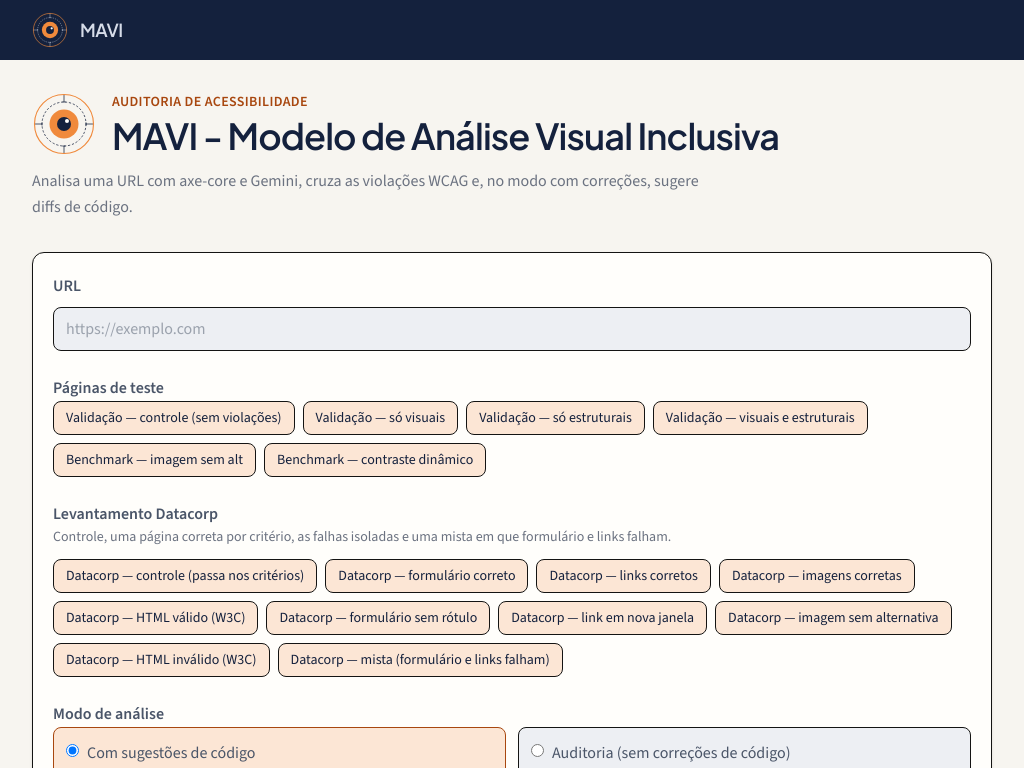
Test case: App — submissão de URL › preenche a URL com uma página de teste
Click the button "Validação — só visuais" at (380, 418), box [303, 401, 458, 435]
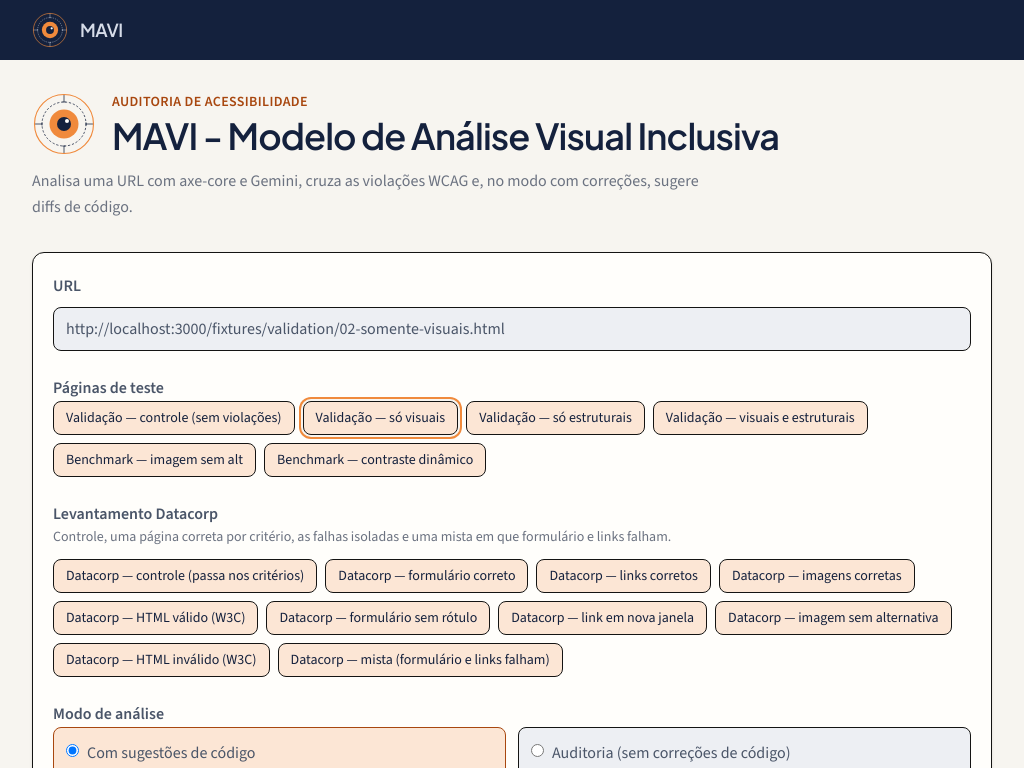
Now the field labelled "URL" holds "http://localhost:3000/fixtures/validation/02-somente-visuais.html", box [53, 307, 971, 351]
